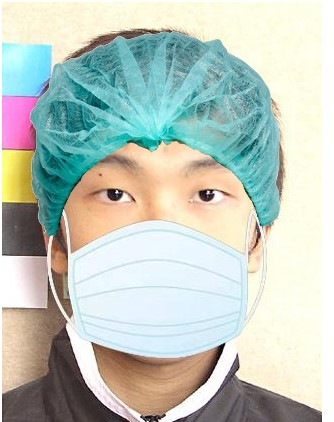with_mask_and_cap: (44, 40, 272, 358)
